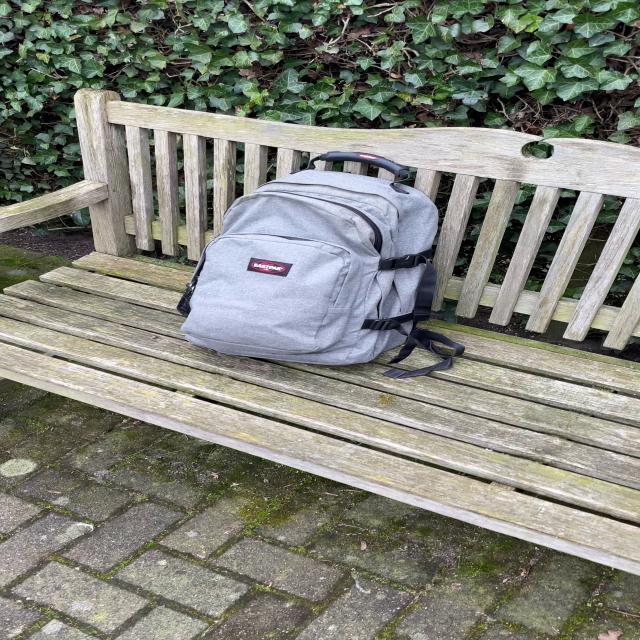backpack: (180, 142, 470, 382)
